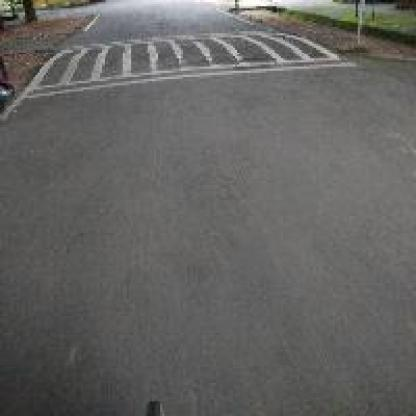Speed Bump: (17, 25, 358, 100)
